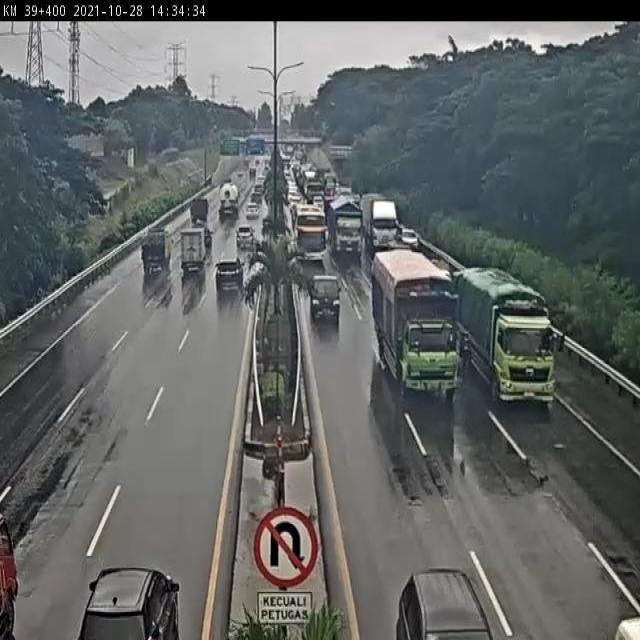Car: (74, 558, 173, 640), (397, 562, 492, 640), (305, 270, 349, 332), (218, 252, 246, 292), (231, 223, 261, 259)
Truck: (372, 248, 471, 408), (454, 266, 558, 408), (362, 197, 402, 263), (326, 194, 363, 262), (294, 204, 328, 261), (179, 226, 209, 276), (141, 228, 172, 276), (219, 181, 239, 218), (190, 196, 209, 228)
